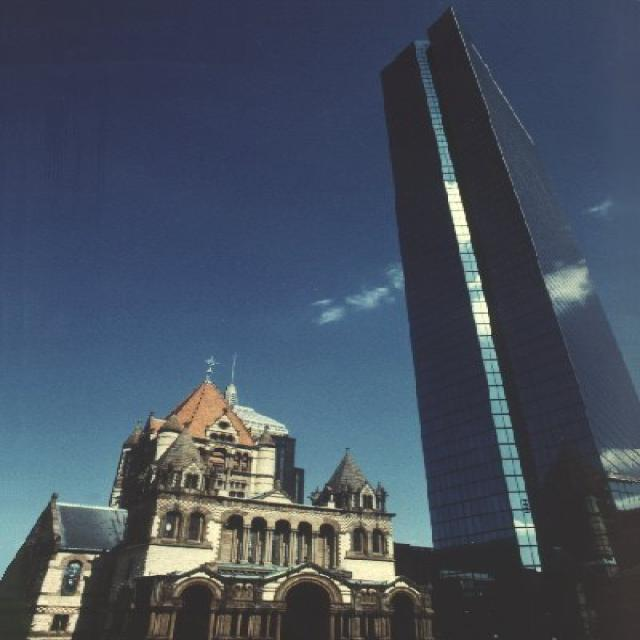building: (381, 5, 640, 640), (0, 354, 435, 640)
